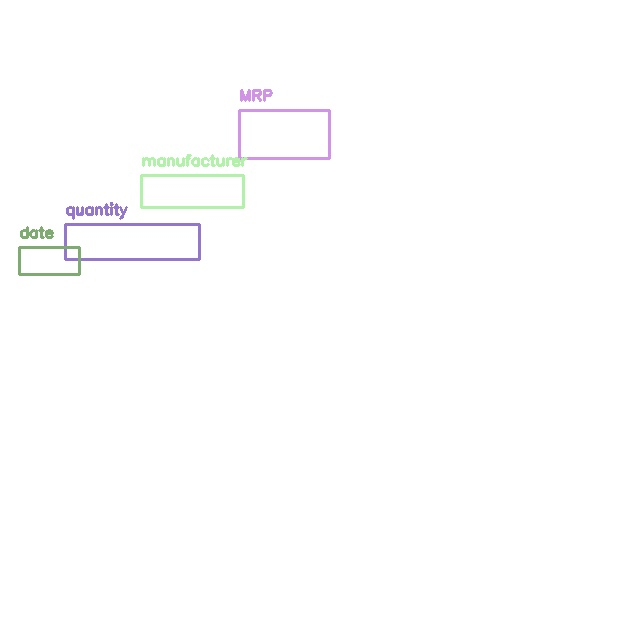MRP: (239, 110, 329, 158)
date: (19, 247, 79, 274)
manufacturer: (141, 175, 243, 207)
quantity: (65, 224, 199, 259)
